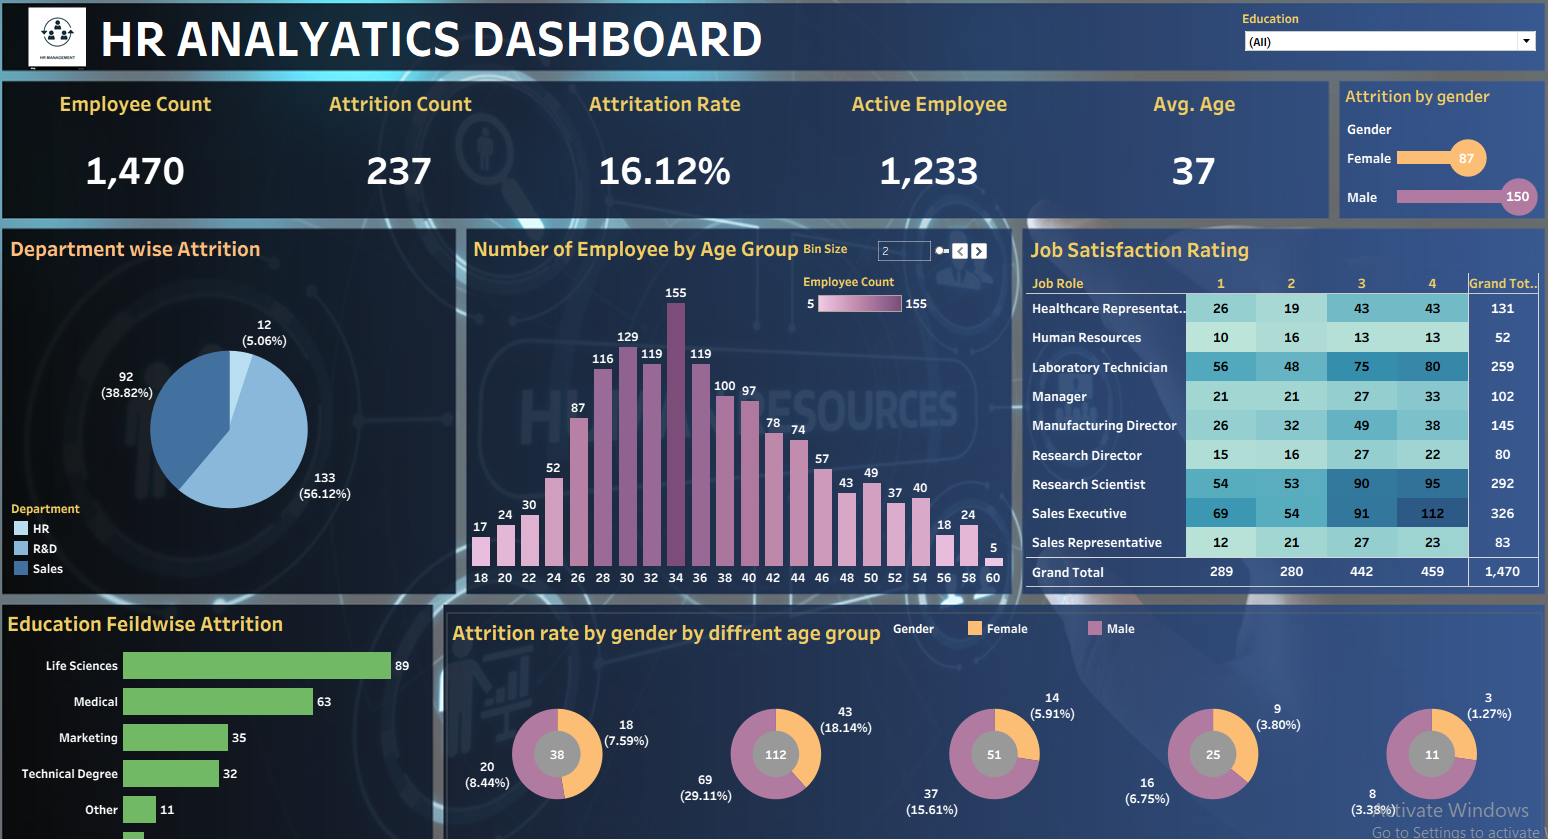

This screenshot's page, from the dashboard's own definition file:
{"tool":"tableau","page":{"name":"Dashboard 1","canvas":[1580,900],"ordinal":0},"visuals":[{"type":"image","param":"Image/HR background.png","box":[8,8,1564,884]},{"type":"text","box":[114,21,789,63]},{"type":"image","param":"Image/hr-management-icon-monochrome-sign-from-company-management-collection-crea","box":[29,23,90,63]},{"type":"filter","title":"Number of Employee by Age Group","param":"[federated.07jd6sx1lw6jk910k1vvb1gmu7k6].[none:Education:nk]","box":[1259,26,297,52]},{"type":"worksheet","title":"Attrition by gender","mark":"Automatic","rows":["Gender"],"cols":["Calculation_402227798158458880","Calculation_402227798158458880"],"box":[1358,97,203,135]},{"type":"worksheet","title":"KPI","mark":"Automatic","box":[20,99,1324,132]},{"type":"worksheet","title":"Department wise Attrition","mark":"Pie","box":[23,246,446,357]},{"type":"worksheet","title":"Number of Employee by Age Group","mark":"Bar","rows":["Employee Count"],"cols":["Age (bin)"],"box":[486,246,537,357]},{"type":"worksheet","title":"Job Satisfaction Rating","mark":"Square","rows":["Job Role"],"cols":["Job Satisfaction"],"box":[1043,247,513,356]},{"type":"parameter","param":"[Parameters].[Parameter 1]","box":[820,254,187,28]},{"type":"legend","title":"Number of Employee by Age Group","param":"[federated.07jd6sx1lw6jk910k1vvb1gmu7k6].[sum:Employee Count:qk]","box":[820,289,129,54]},{"type":"legend","title":"Department wise Attrition","param":"[federated.07jd6sx1lw6jk910k1vvb1gmu7k6].[none:Department:nk]","box":[28,516,140,78]},{"type":"worksheet","title":"Education Field wise Attrition","mark":"Automatic","rows":["Education Field"],"cols":["Calculation_402227798158458880"],"box":[20,621,427,258]},{"type":"worksheet","title":"Attrition rate by gender by diffrent age group","mark":"Pie","rows":["Calculation_402227798219542532","Calculation_402227798219542532"],"cols":["CF_age band"],"box":[465,630,1093,238]},{"type":"legend","title":"Attrition rate by gender by diffrent age group","param":"[federated.07jd6sx1lw6jk910k1vvb1gmu7k6].[none:Gender:nk]","box":[910,634,356,26]}]}

Visuals, with their boxes on the page's 1580x900 design canvas (x1, y1, x2, y2). These are canvas units, not pixel positions in the 1548x839 screenshot, which may show the page scaled, cropped or inside an application window:
image: (8, 8, 1572, 892)
text: (114, 21, 903, 84)
image: (29, 23, 119, 86)
"Number of Employee by Age Group" filter: (1259, 26, 1556, 78)
"Attrition by gender" worksheet: (1358, 97, 1561, 232)
"KPI" worksheet: (20, 99, 1344, 231)
"Department wise Attrition" worksheet (Pie marks): (23, 246, 469, 603)
"Number of Employee by Age Group" worksheet (Bar marks): (486, 246, 1023, 603)
"Job Satisfaction Rating" worksheet (Square marks): (1043, 247, 1556, 603)
parameter: (820, 254, 1007, 282)
"Number of Employee by Age Group" legend: (820, 289, 949, 343)
"Department wise Attrition" legend: (28, 516, 168, 594)
"Education Field wise Attrition" worksheet: (20, 621, 447, 879)
"Attrition rate by gender by diffrent age group" worksheet (Pie marks): (465, 630, 1558, 868)
"Attrition rate by gender by diffrent age group" legend: (910, 634, 1266, 660)
